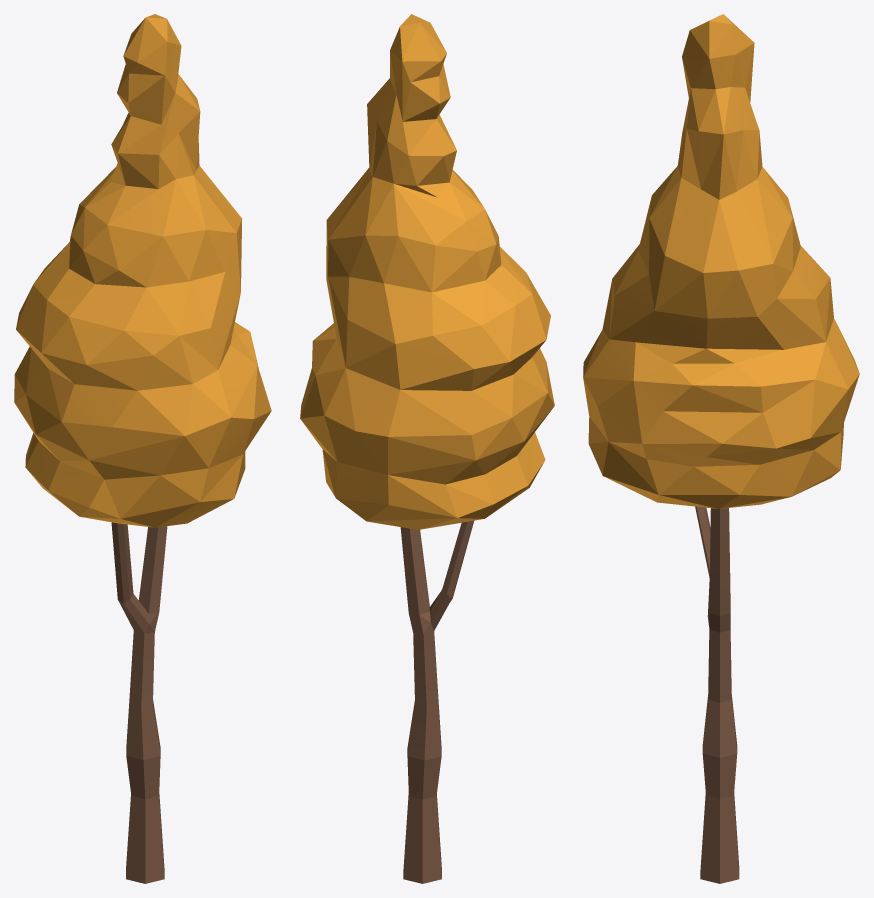
Rendered from tropical_tree_2.fbx.
The picture shows the model from 3 angles, left to right: view 1: azimuth 30°, elevation 25°; view 2: azimuth 150°, elevation 25°; view 3: azimuth 270°, elevation 25°; orthographic projection.
Parts seen in each view (by area): view 1: tropical_trees_2; view 2: tropical_trees_2; view 3: tropical_trees_2.
Boxes of the visible parts, bbox=[...] form: tropical_trees_2: bbox=[14, 14, 271, 883]; tropical_trees_2: bbox=[300, 14, 554, 883]; tropical_trees_2: bbox=[583, 14, 859, 883].
Size of the model in its own units: 179 by 680 by 198.
